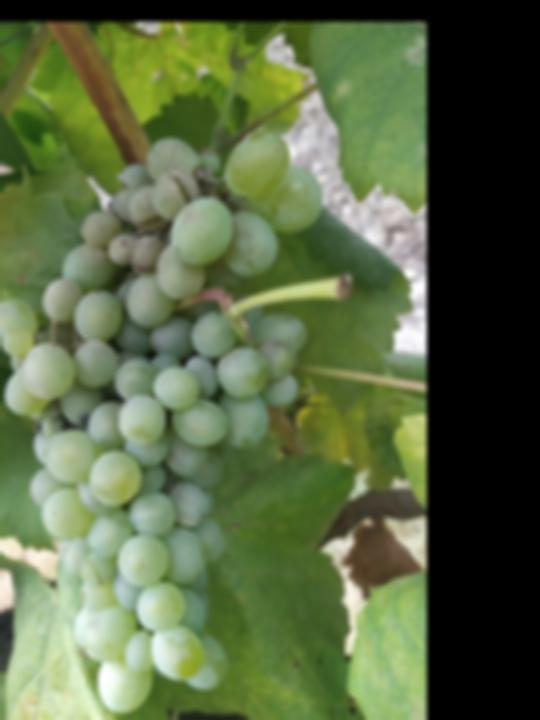grape: (0, 128, 327, 718)
